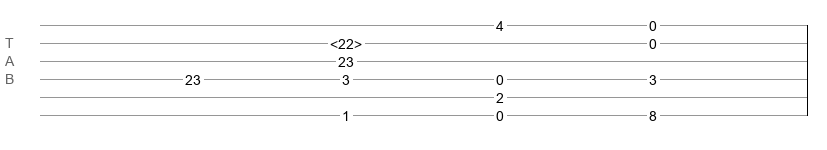0: (496, 108, 504, 118), (496, 72, 504, 82), (649, 36, 657, 46), (649, 18, 657, 28)
1: (342, 108, 350, 118)
2: (496, 90, 504, 100)
23: (185, 72, 201, 82), (338, 54, 354, 64)
3: (342, 72, 350, 82), (649, 72, 657, 82)
4: (496, 18, 504, 28)
8: (649, 108, 657, 118)
harmonic: (330, 36, 362, 46)
